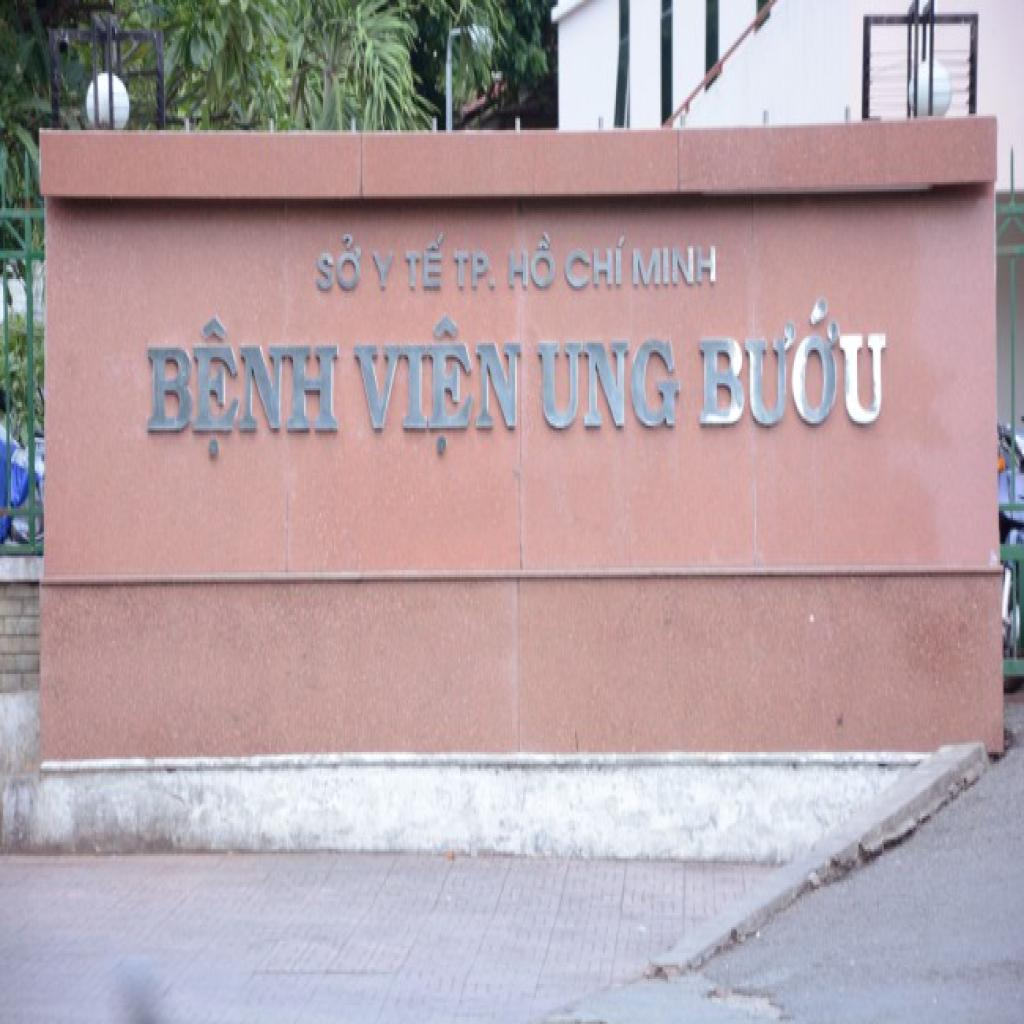text: (142, 310, 343, 466), (350, 310, 526, 461), (532, 331, 686, 435), (632, 241, 718, 291), (562, 234, 628, 296), (506, 230, 559, 294), (314, 232, 366, 296), (403, 229, 449, 298), (452, 246, 500, 296), (370, 246, 397, 296)
